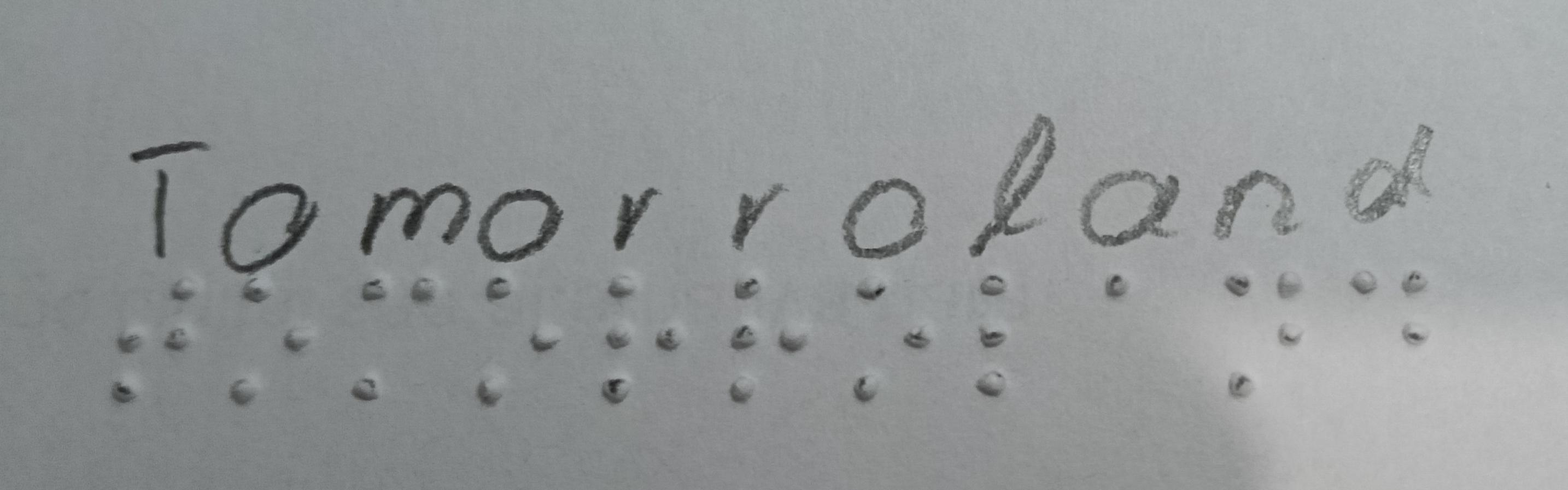a: (1073, 262, 1157, 311)
d: (1349, 249, 1452, 360)
l: (951, 266, 1037, 406)
m: (332, 269, 445, 413)
n: (1205, 251, 1329, 413)
o: (459, 267, 570, 411), (221, 280, 313, 415), (842, 269, 931, 404)
r: (703, 260, 822, 409), (587, 264, 689, 409)
t: (100, 260, 199, 413)
